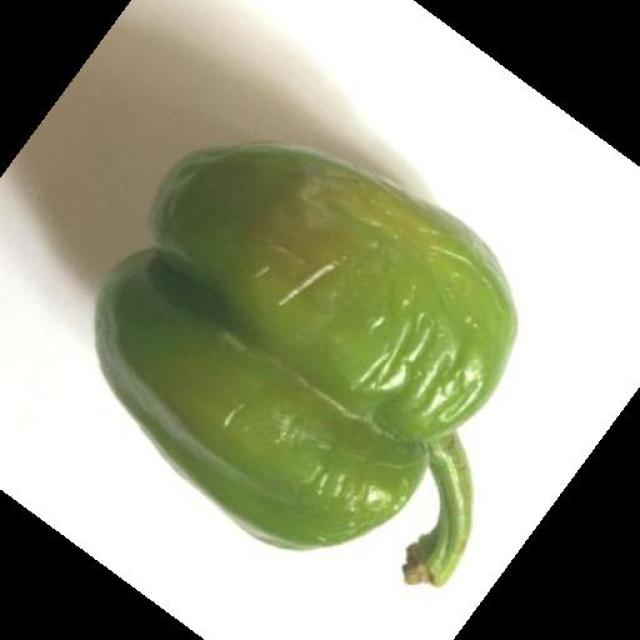Stale_Capsicum: (71, 160, 487, 542)
